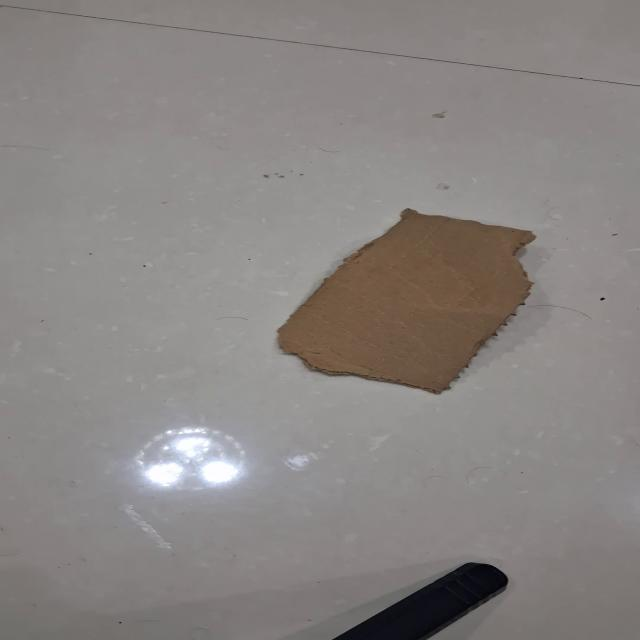paper: (275, 207, 537, 395)
